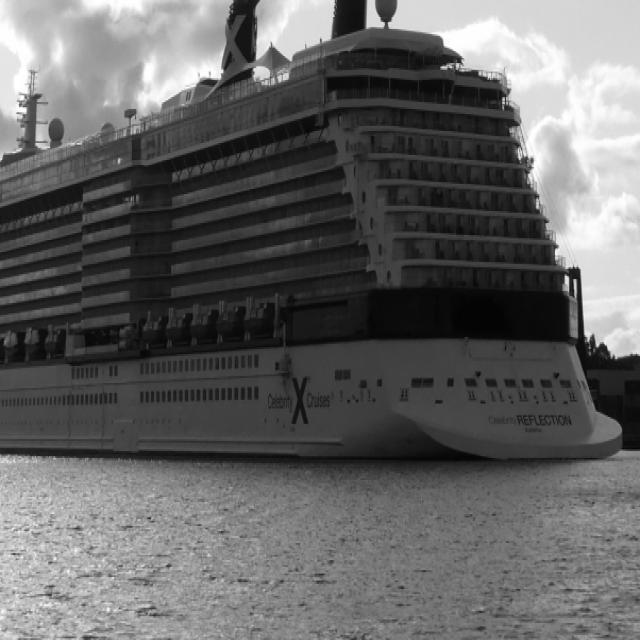cruises: (1, 1, 632, 477)
